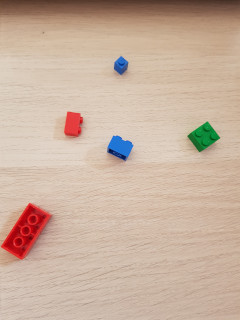1x1 blue: (111, 55, 132, 77)
1x2 red: (64, 111, 84, 138)
2x2 blue: (107, 135, 134, 161)
2x2 green: (188, 121, 221, 152)
2x4 red: (1, 203, 56, 261)
